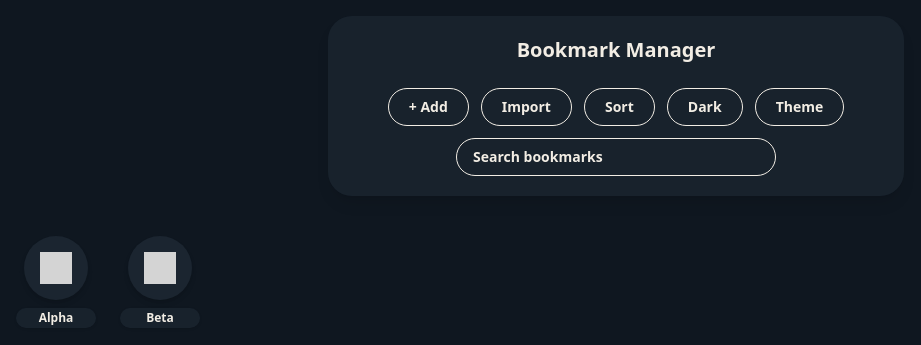
Test: BookmarksPage › filters bookmarks by the search query
Step 1. Type "alpha" into the field with placeholder "Search bookmarks" → (616, 157), box [456,138,776,176]
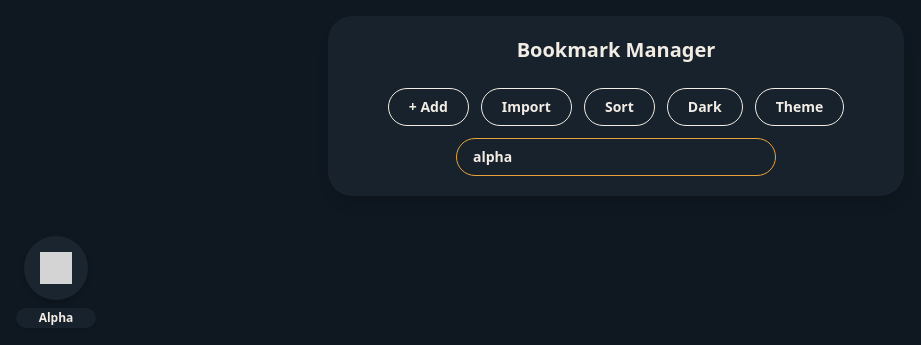
Check: the button "Alpha" is shown, box [16,308,96,328]
Check: the button "Beta" is gone
